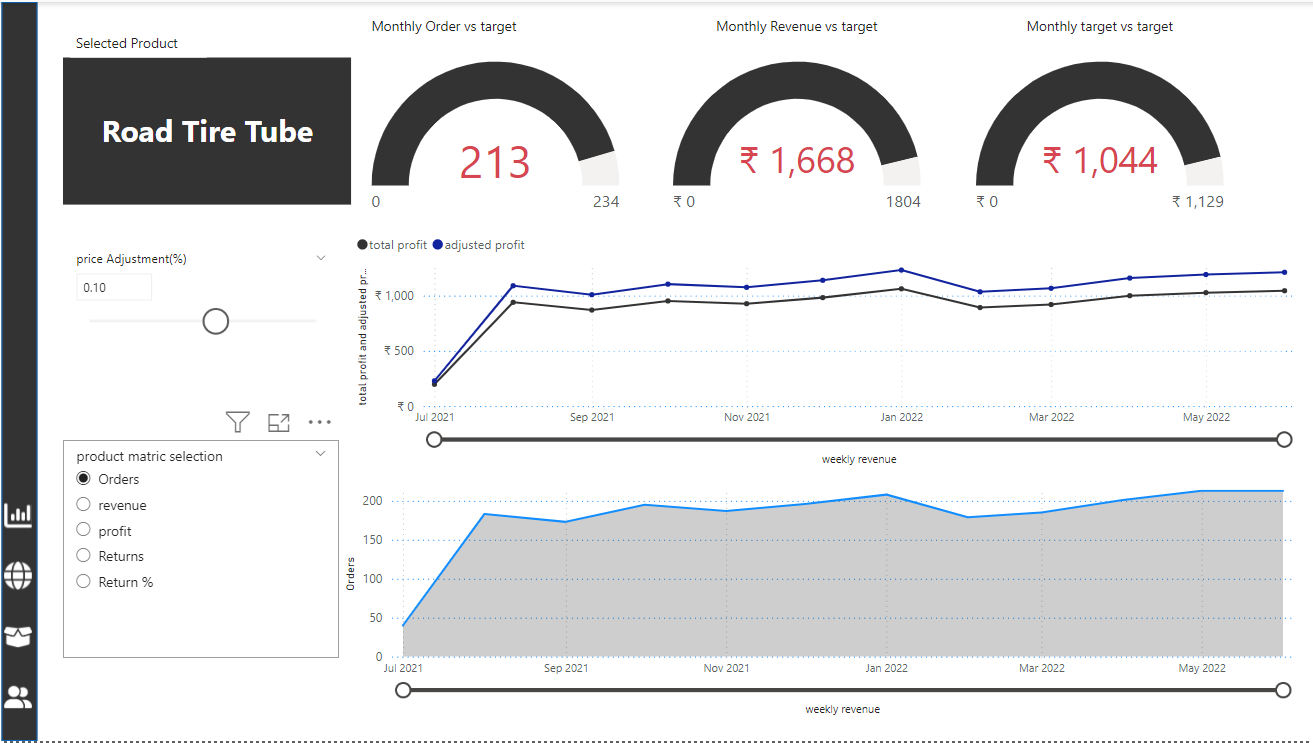

The dashboard page shown, as its layout file describes it:
{"tool":"powerbi","page":{"name":"Product Detail Page","canvas":[1280,720],"ordinal":2},"visuals":[{"type":"shape","box":[1.7,0,35,720],"z":0},{"type":"actionButton","box":[0,539.7,35.1,39.5],"z":0,"group":"g1"},{"type":"gauge","title":"Monthly Order vs target","fields":{"Y":["Measure Table.Total Orders"],"MaxValue":["Measure Table.order target"]},"box":[356.7,13.3,251.7,223.3],"z":1000},{"type":"actionButton","box":[0,598.7,35.1,39.5],"z":1000,"group":"g1"},{"type":"gauge","title":"Monthly Revenue vs target","fields":{"Y":["Measure Table.total revenue"],"MaxValue":["Measure Table.revenue target"]},"box":[650.8,13.3,251.7,223.3],"z":2000},{"type":"actionButton","box":[0,480.8,35.1,39.5],"z":2000,"group":"g1"},{"type":"gauge","title":"Monthly target vs target","fields":{"Y":["Measure Table.total profit"],"MaxValue":["Measure Table.profit target"]},"box":[945,13.3,251.7,223.3],"z":3000},{"type":"actionButton","box":[0,657.6,35.1,39.5],"z":3000,"group":"g1"},{"type":"lineChart","title":"profit trending","fields":{"Y":["Measure Table.total profit","Measure Table.adjusted profit"],"Category":["Calendar Lookup.Start of Month"]},"box":[342,216.3,938.3,236.8],"z":4000},{"type":"areaChart","title":"profit trending","fields":{"Y":["Measure Table.Total Orders"],"Category":["Calendar Lookup.Start of Month"]},"box":[330.3,461.8,948.5,235.3],"z":5000},{"type":"card","fields":{"Values":["Min(Product Lookup.ProductName)"]},"box":[61.4,54.1,280.6,143.2],"z":6000},{"type":"textbox","box":[68.7,24.8,133,29.2],"z":7000},{"type":"group","id":"g1","title":"Navigation button","box":[0,480.8,35.1,216.3],"z":8000},{"type":"slicer","fields":{"Values":["price Adjustment(%).price Adjustment(%)"]},"box":[61.4,236.8,268.9,143.2],"z":9000},{"type":"slicer","fields":{"Values":["product matric selection.product matric selection"]},"box":[61.4,426.7,268.9,211.9],"z":10000}]}

Visuals, with their boxes on the page's 1280x720 design canvas (x1, y1, x2, y2). These are canvas units, not pixel positions in the 1313x743 screenshot, which may show the page scaled, cropped or inside an application window:
shape: region(2, 0, 37, 720)
actionButton: region(0, 540, 35, 579)
"Monthly Order vs target" gauge: region(357, 13, 608, 237)
actionButton: region(0, 599, 35, 638)
"Monthly Revenue vs target" gauge: region(651, 13, 902, 237)
actionButton: region(0, 481, 35, 520)
"Monthly target vs target" gauge: region(945, 13, 1197, 237)
actionButton: region(0, 658, 35, 697)
"profit trending" lineChart: region(342, 216, 1280, 453)
"profit trending" areaChart: region(330, 462, 1279, 697)
card - Min(Product Lookup.ProductName): region(61, 54, 342, 197)
textbox: region(69, 25, 202, 54)
"Navigation button" group: region(0, 481, 35, 697)
slicer - price Adjustment(%).price Adjustment(%): region(61, 237, 330, 380)
slicer - product matric selection.product matric selection: region(61, 427, 330, 639)
